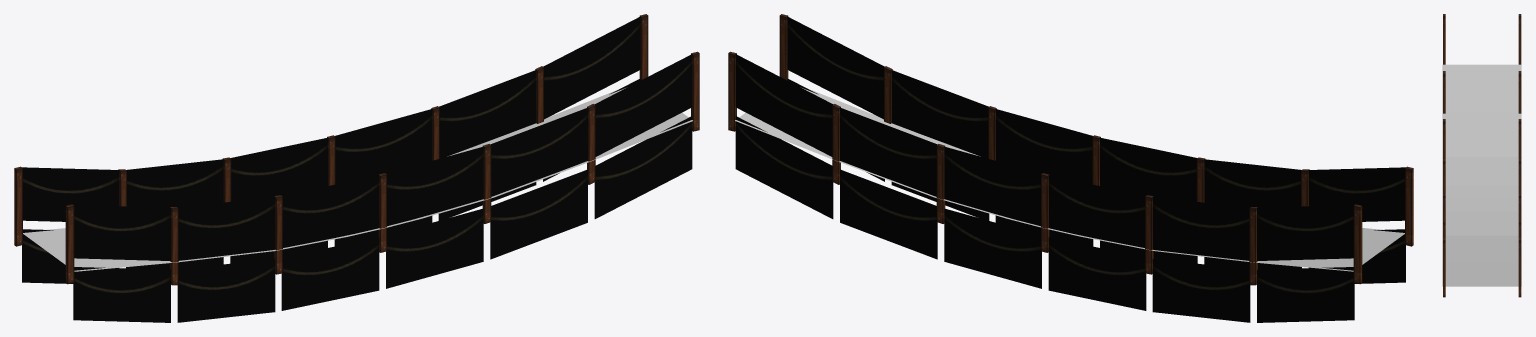
Rendered from Bridge2Model.fbx.
The picture shows the model from 3 angles, left to right: view 1: azimuth 30°, elevation 25°; view 2: azimuth 150°, elevation 25°; view 3: azimuth 270°, elevation 25°; orthographic projection. The views are drawn at different scales.
Visible parts, largest first — view 1: Plane.017; view 2: Plane.017; view 3: Plane.017.
Boxes of the visible parts, x1,y1,x2,y2 form: Plane.017: (14,14,699,322); Plane.017: (728,14,1413,322); Plane.017: (1442,14,1521,297).
Bounding box in the file's own units: 1951 × 473 × 289.
